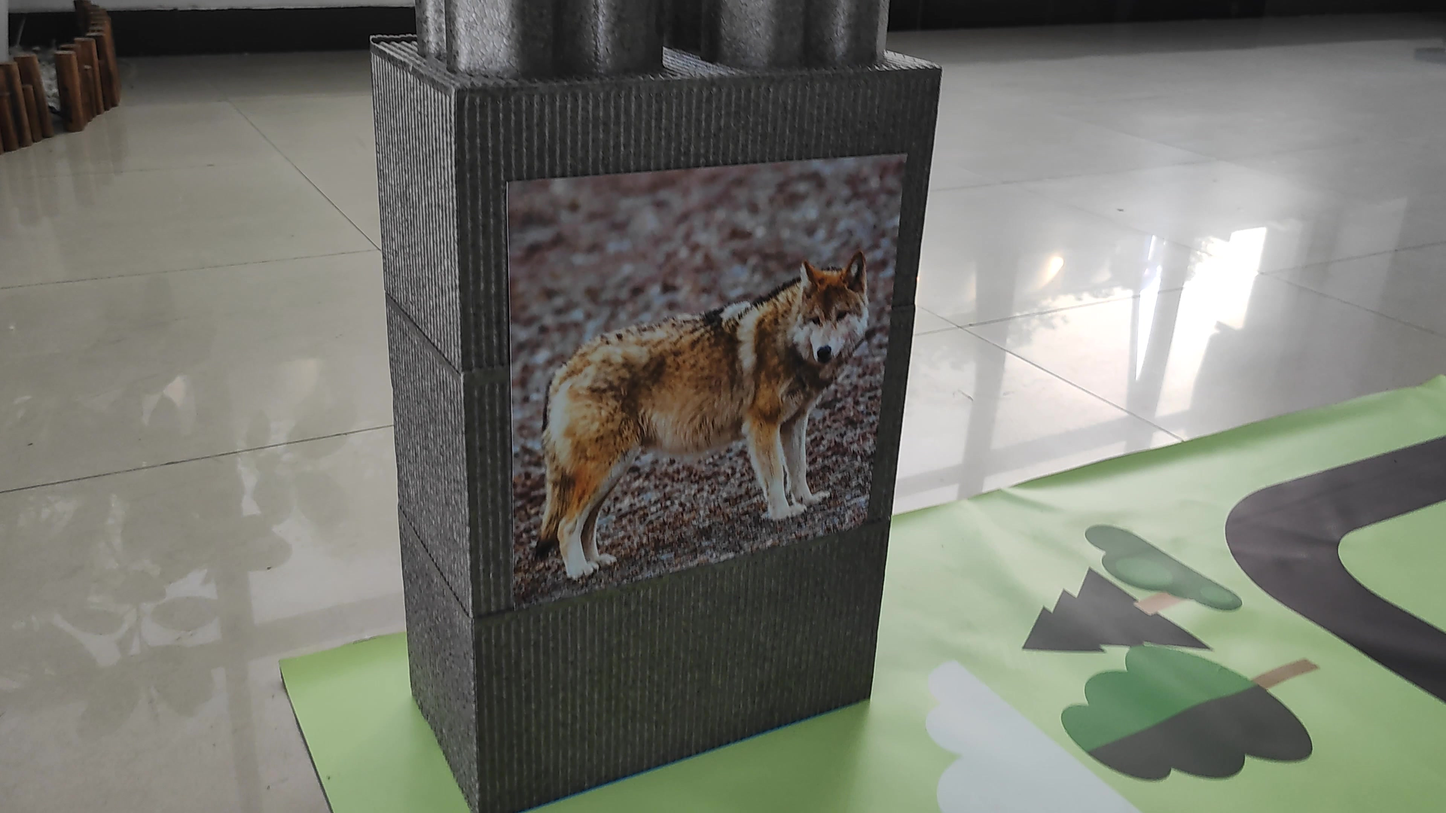wolf: (508, 241, 882, 589)
